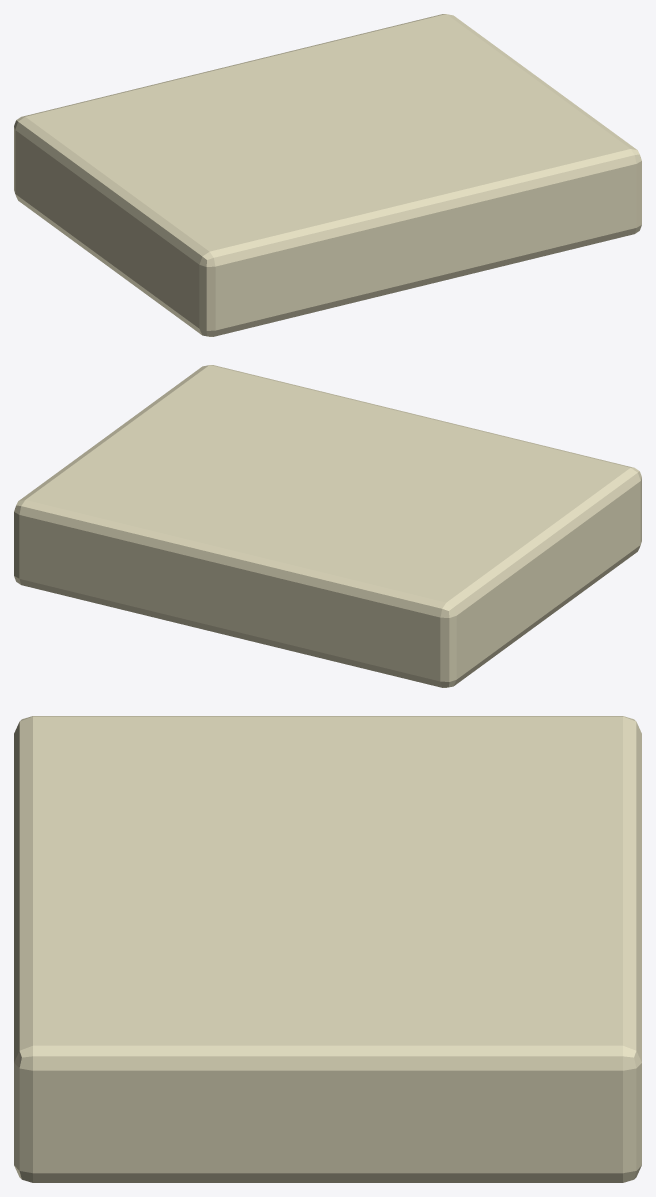
The model's file is SM_Interact_OathRecord.fbx.
3 renders of one model, top to bottom at view 1: azimuth 30°, elevation 25°; view 2: azimuth 150°, elevation 25°; view 3: azimuth 270°, elevation 25°, orthographic. The views are drawn at different scales.
Parts seen in each view (by area): view 1: SM_Interact_OathRecord; view 2: SM_Interact_OathRecord; view 3: SM_Interact_OathRecord.
Boxes of the visible parts, left/top/right/bottom form: SM_Interact_OathRecord: left=14, top=14, right=641, bottom=336; SM_Interact_OathRecord: left=14, top=365, right=641, bottom=687; SM_Interact_OathRecord: left=14, top=716, right=641, bottom=1182.
Size of the model in its own units: 0.65 by 0.5 by 0.12.
